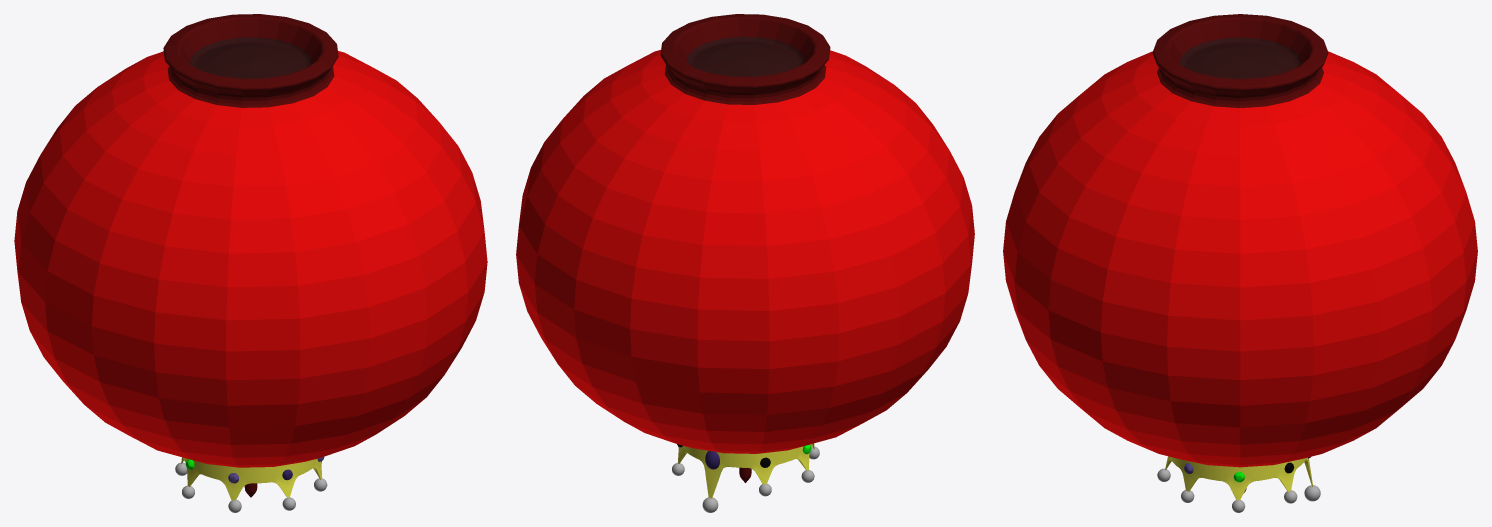
File: Currant_Tiny_Crowned.fbx
3 views of the same model, side by side, from view 1: azimuth 30°, elevation 25°; view 2: azimuth 150°, elevation 25°; view 3: azimuth 270°, elevation 25° (orthographic). The views are drawn at different scales.
Parts seen in each view (by area): view 1: Currant_Tiny_Crowned; view 2: Currant_Tiny_Crowned; view 3: Currant_Tiny_Crowned.
Boxes of the visible parts, box(x1,y1,x2,y2) form: Currant_Tiny_Crowned: box(14, 14, 487, 512); Currant_Tiny_Crowned: box(516, 14, 974, 512); Currant_Tiny_Crowned: box(1003, 14, 1477, 512).
Size of the model in its own units: 1.31 by 1.38 by 1.31.
